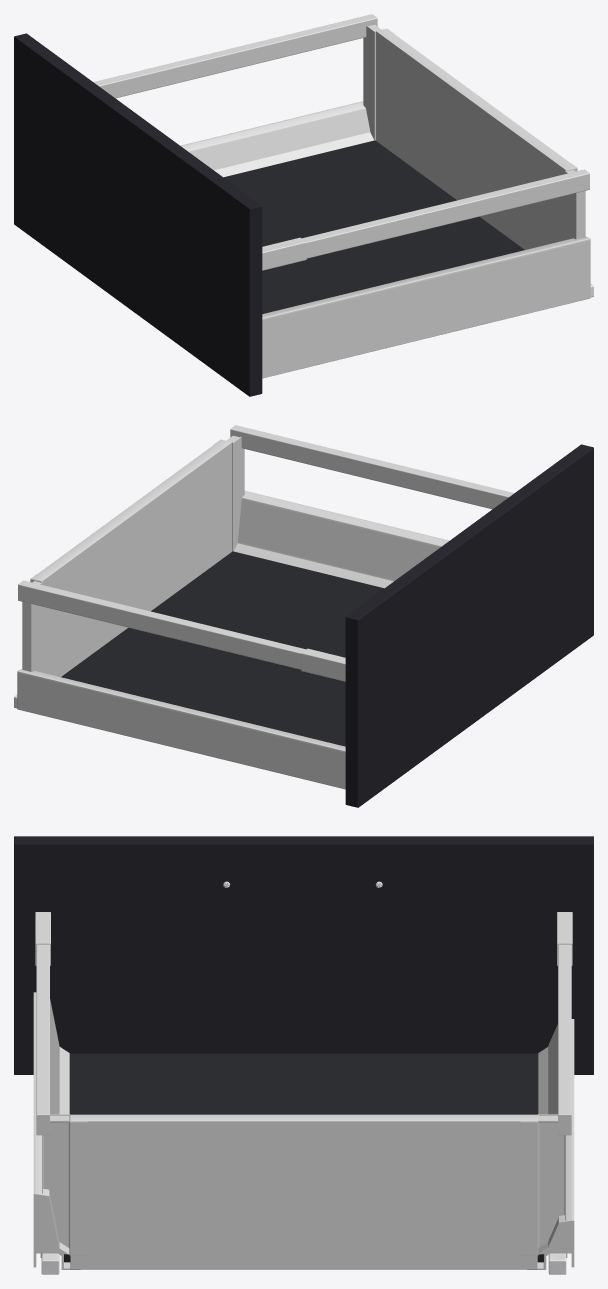
File: SM_Kitchen_01_Drawer_01.dae
3 renders of one model, top to bottom at view 1: azimuth 30°, elevation 25°; view 2: azimuth 150°, elevation 25°; view 3: azimuth 270°, elevation 25°, orthographic. The views are drawn at different scales.
Parts seen in each view (by area): view 1: SM_Kitchen_01_Drawer_01; view 2: SM_Kitchen_01_Drawer_01; view 3: SM_Kitchen_01_Drawer_01.
Part boxes in pixels (bbox=[...]): SM_Kitchen_01_Drawer_01: bbox=[14, 14, 593, 396]; SM_Kitchen_01_Drawer_01: bbox=[14, 425, 593, 807]; SM_Kitchen_01_Drawer_01: bbox=[14, 836, 593, 1274].
Size of the model in its own units: 0.5199 by 0.5969 by 0.263.
